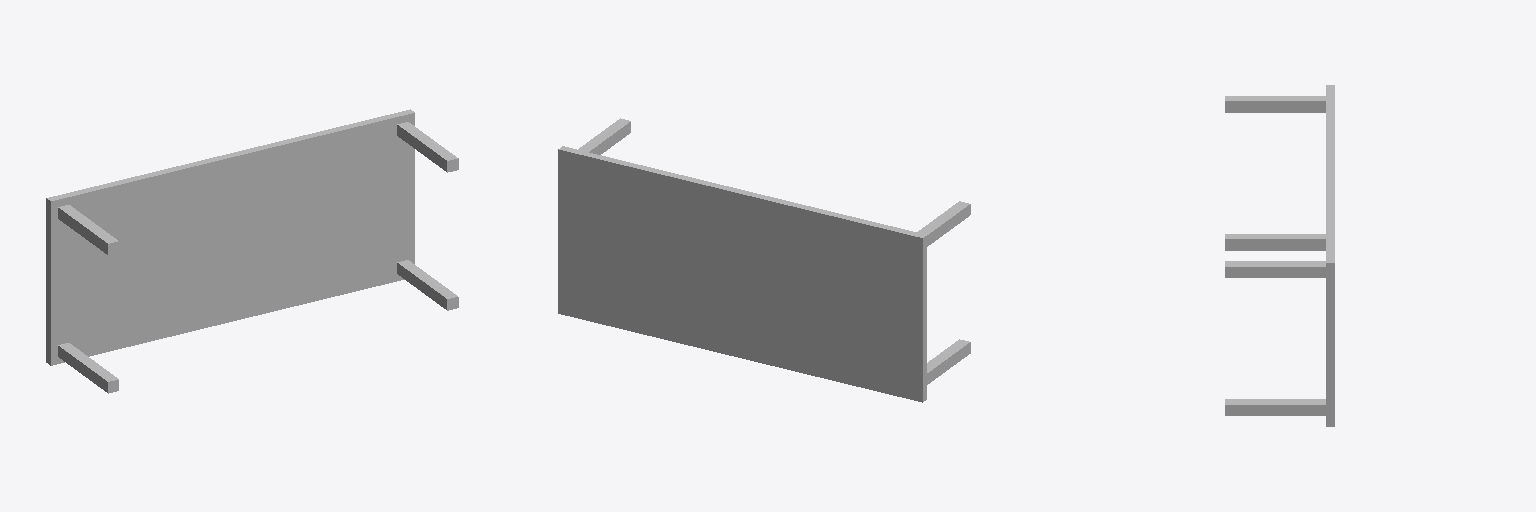
The model's file is random_table37.obj.
The picture shows the model from 3 angles: view 1: azimuth 30°, elevation 25°; view 2: azimuth 150°, elevation 25°; view 3: azimuth 270°, elevation 25°; orthographic projection.
Visible parts, largest first — view 1: Table_Cube.380, TableLeg0_Cube.381, TableLeg2_Cube.383, TableLeg3_Cube.384, TableLeg1_Cube.382; view 2: Table_Cube.380, TableLeg1_Cube.382, TableLeg3_Cube.384, TableLeg0_Cube.381; view 3: Table_Cube.380, TableLeg0_Cube.381, TableLeg1_Cube.382, TableLeg2_Cube.383, TableLeg3_Cube.384.
Boxes of the visible parts, x1,y1,x2,y2 form: Table_Cube.380: [46, 109, 414, 365]; TableLeg0_Cube.381: [397, 122, 458, 172]; TableLeg2_Cube.383: [397, 260, 458, 310]; TableLeg3_Cube.384: [58, 343, 118, 393]; TableLeg1_Cube.382: [58, 205, 118, 254]; Table_Cube.380: [558, 146, 926, 402]; TableLeg1_Cube.382: [917, 201, 970, 246]; TableLeg3_Cube.384: [927, 339, 970, 384]; TableLeg0_Cube.381: [578, 118, 630, 154]; Table_Cube.380: [1326, 85, 1334, 426]; TableLeg0_Cube.381: [1225, 261, 1325, 277]; TableLeg1_Cube.382: [1225, 96, 1325, 112]; TableLeg2_Cube.383: [1225, 399, 1325, 415]; TableLeg3_Cube.384: [1225, 234, 1325, 250].
Size of the model in its own units: 11.71 by 5.05 by 3.05.